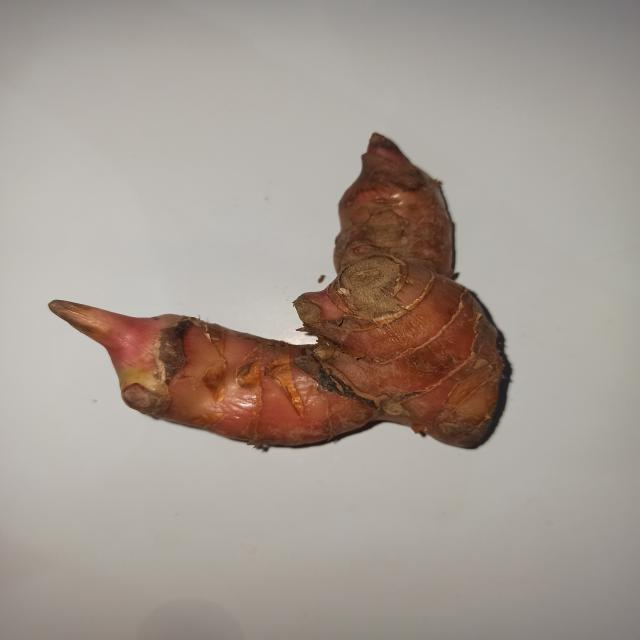ginger: (61, 147, 512, 445)
